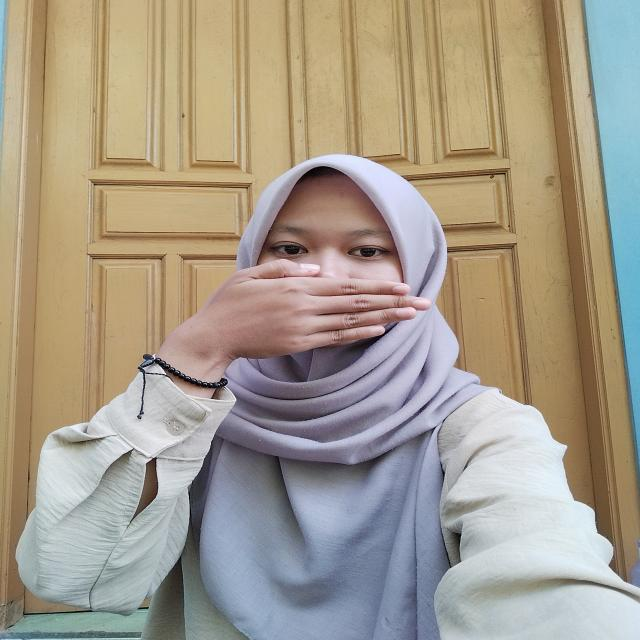buruk: (158, 246, 446, 368)
